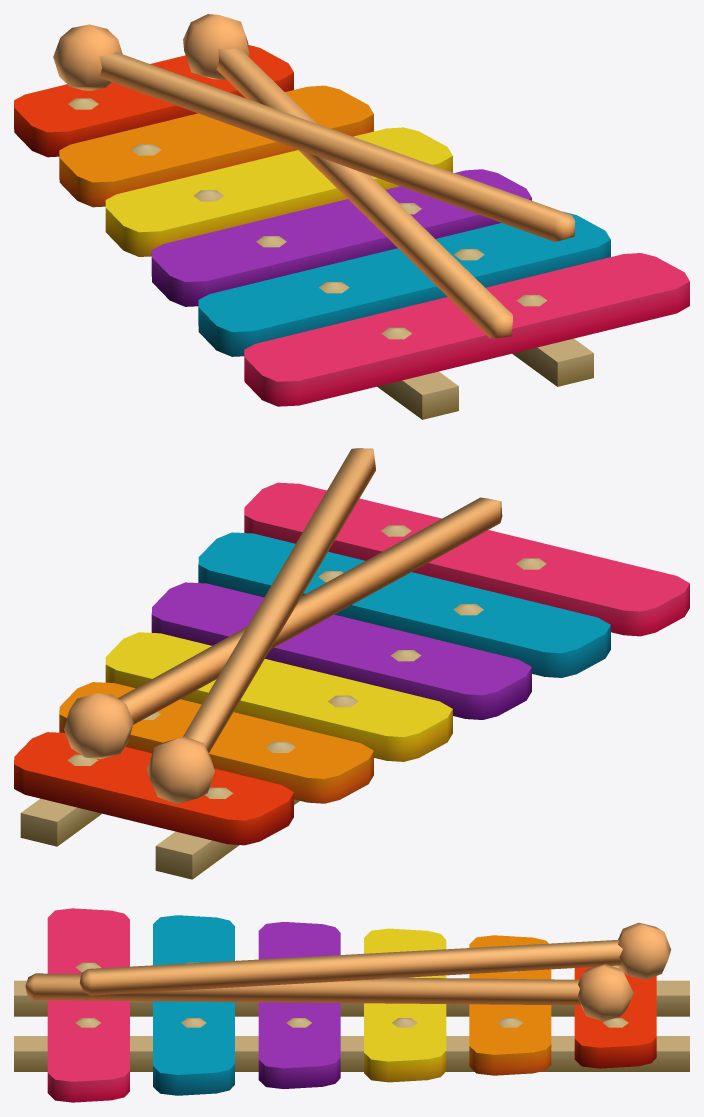
File: xelophone.fbx
The picture shows the model from 3 angles, top to bottom: view 1: azimuth 30°, elevation 25°; view 2: azimuth 150°, elevation 25°; view 3: azimuth 270°, elevation 25°; orthographic projection. The views are drawn at different scales.
Visible parts, largest first — view 1: xelophone; view 2: xelophone; view 3: xelophone.
Part boxes in pixels (x1,y1,x2,y2): xelophone: [14, 14, 689, 419]; xelophone: [14, 448, 689, 879]; xelophone: [14, 908, 689, 1102].
Bounding box in the file's own units: 17.76 × 5.02 × 29.25.
